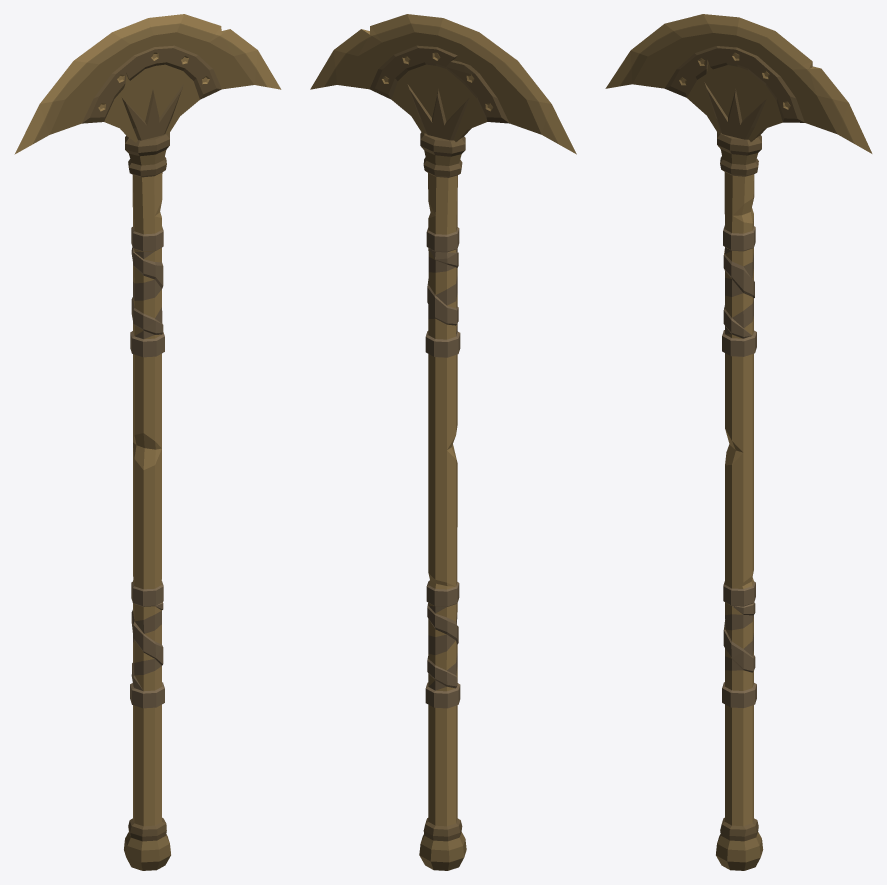
File: SM_Wep_Axe_02.fbx
3 renders of one model, left to right at view 1: azimuth 30°, elevation 25°; view 2: azimuth 150°, elevation 25°; view 3: azimuth 330°, elevation 25°, orthographic.
Parts seen in each view (by area): view 1: SM_Wep_Axe_02; view 2: SM_Wep_Axe_02; view 3: SM_Wep_Axe_02.
Part boxes in pixels (x1,y1,x2,y2): SM_Wep_Axe_02: (14,14,281,870); SM_Wep_Axe_02: (310,14,576,870); SM_Wep_Axe_02: (605,14,872,870).
Size of the model in its own units: 61.92 by 189 by 9.86.
